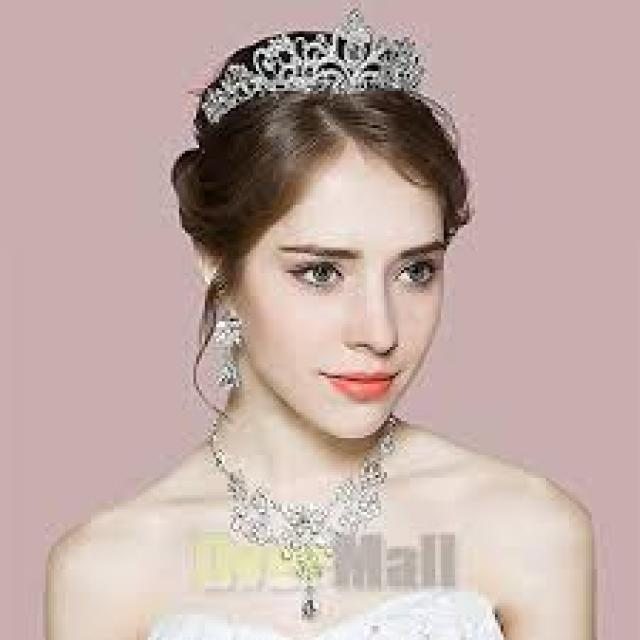Earring: (196, 295, 263, 406)
